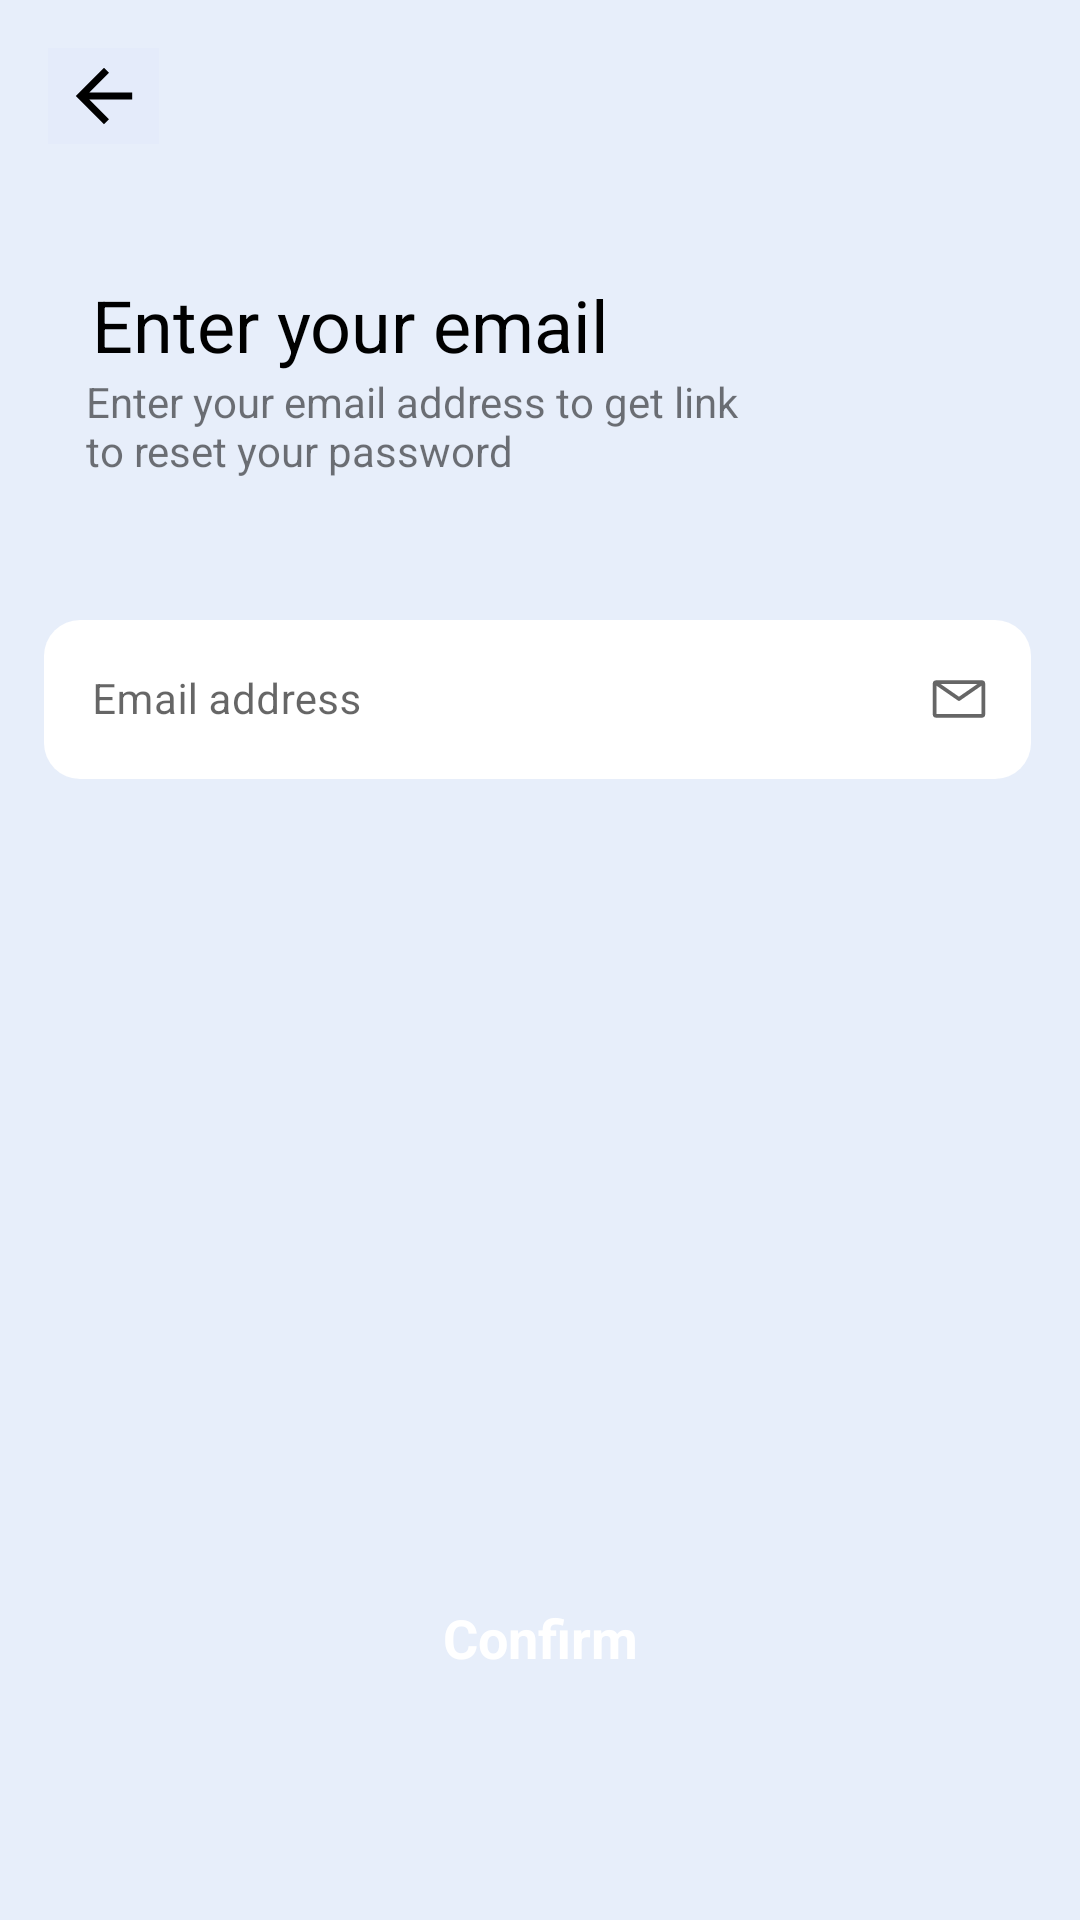

Icons on this 1080px×1920px Android screen, each with the point to tap as (x,y):
back: (104,96)
